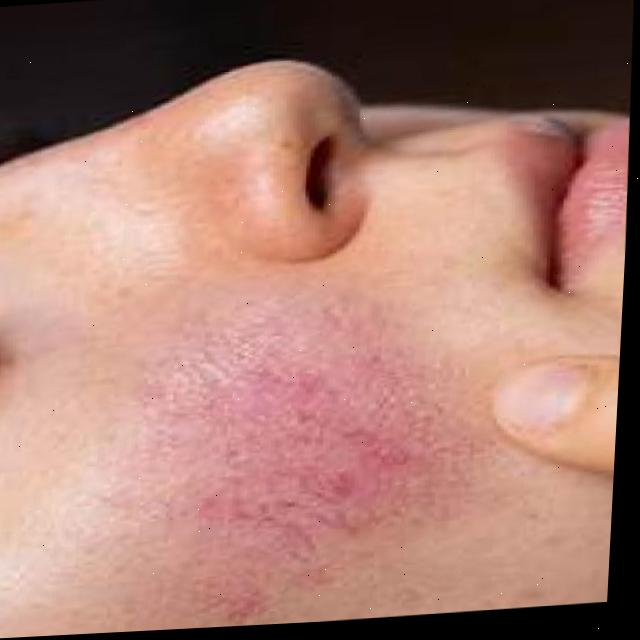Rosacea: (198, 332, 411, 545)
